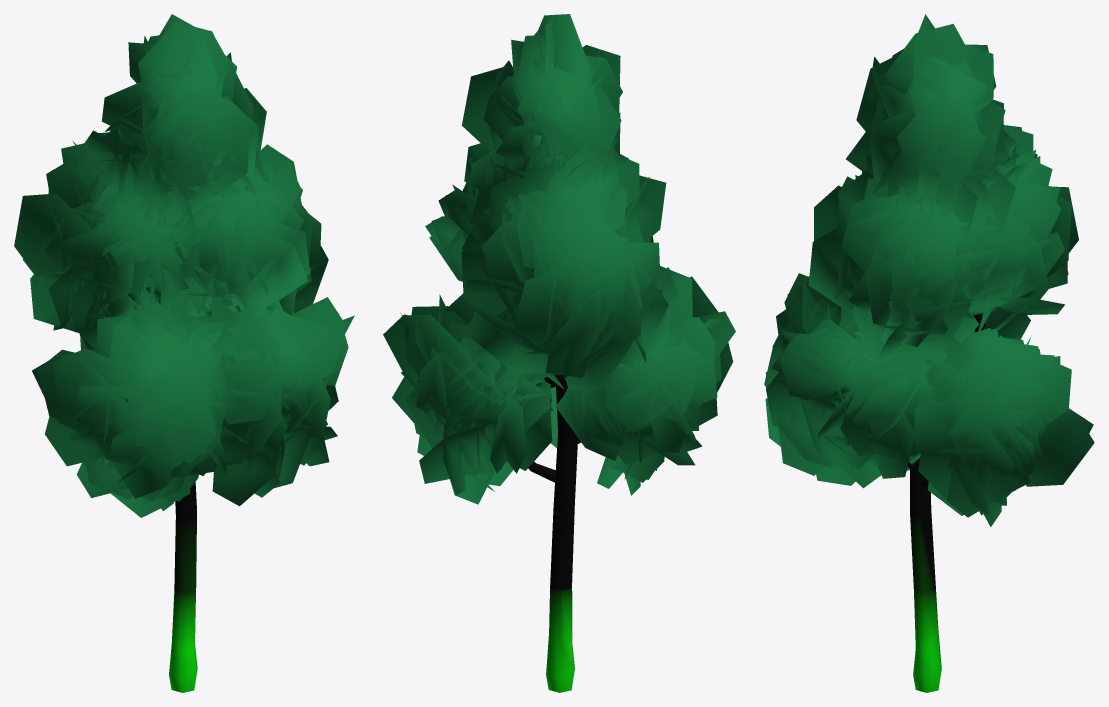
Rendered from SM_BirchTree2.fbx.
The picture shows the model from 3 angles, left to right: view 1: azimuth 30°, elevation 25°; view 2: azimuth 150°, elevation 25°; view 3: azimuth 270°, elevation 25°; orthographic projection.
Parts seen in each view (by area): view 1: SM_BirchTree2_LOD0; view 2: SM_BirchTree2_LOD0; view 3: SM_BirchTree2_LOD0.
Boxes of the visible parts, x1=… form: SM_BirchTree2_LOD0: x1=14, y1=14, x2=354, y2=692; SM_BirchTree2_LOD0: x1=383, y1=14, x2=735, y2=692; SM_BirchTree2_LOD0: x1=764, y1=14, x2=1094, y2=692.
Size of what is drawn, in the model's own units: 910 by 2039 by 913.
